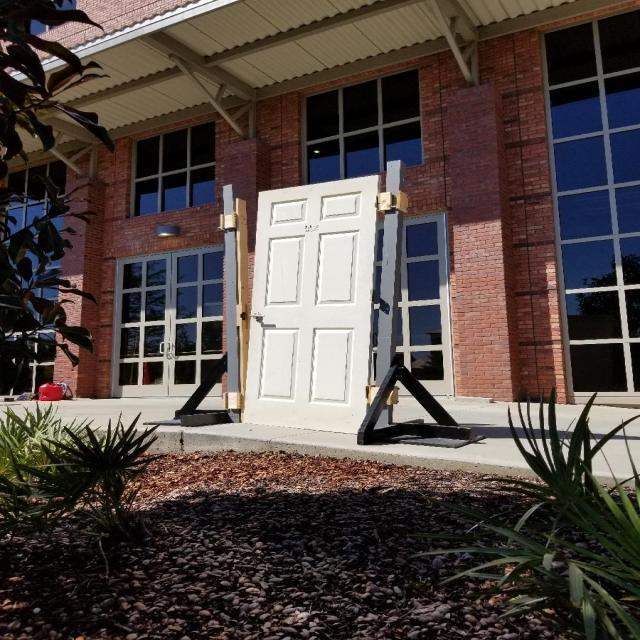door: (241, 174, 381, 438), (248, 311, 265, 321)
